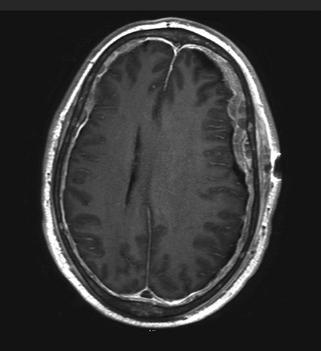Normal_Brain: (7, 10, 303, 351)
